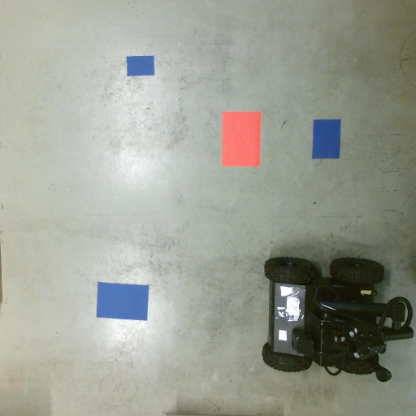Blue: (95, 283, 150, 321), (312, 118, 341, 160), (127, 56, 155, 77)
Jaguar: (262, 254, 416, 385)
Red: (222, 111, 261, 169)
